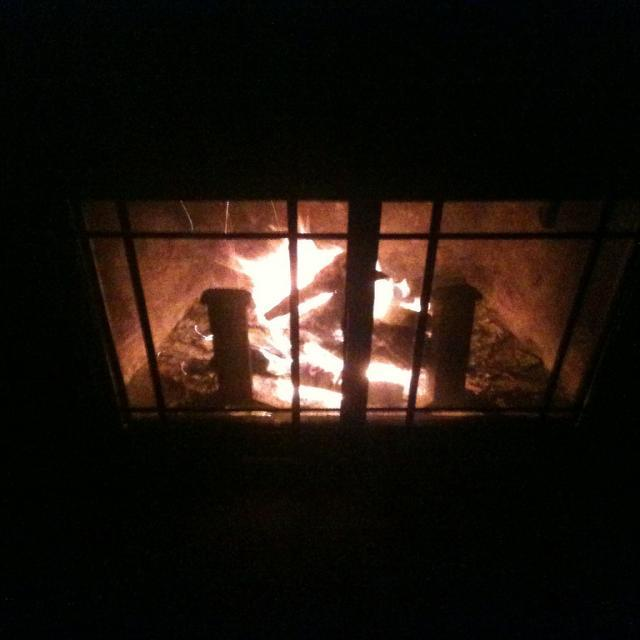Fire: (242, 228, 334, 306), (271, 336, 350, 408)
